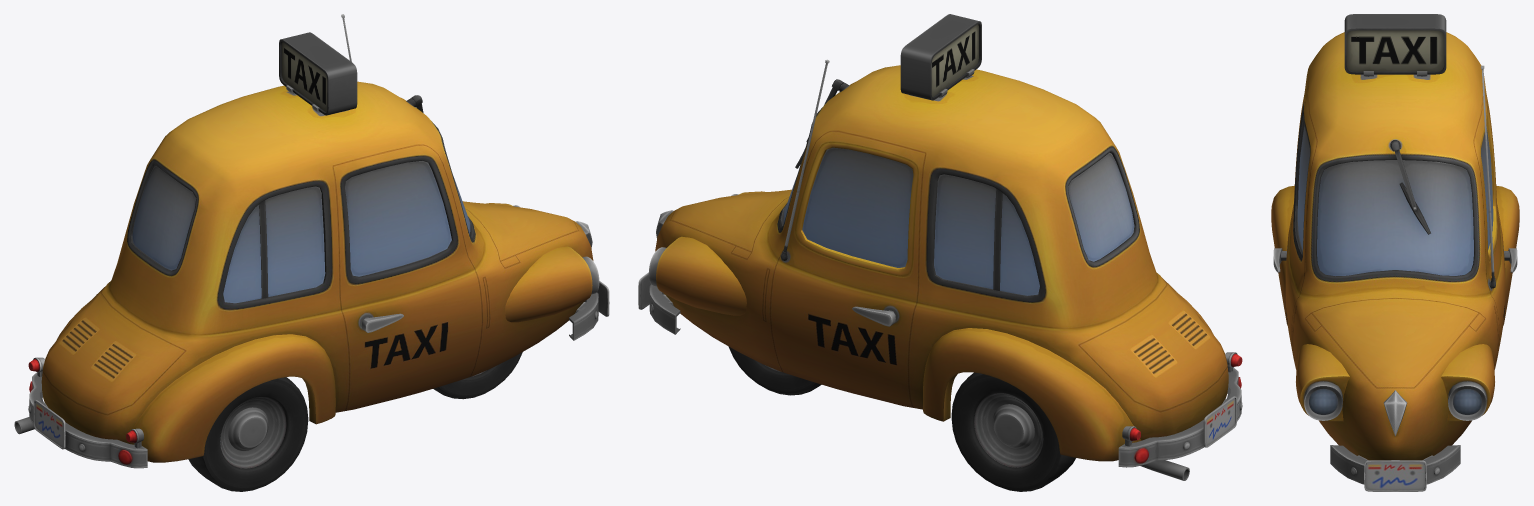
File: taxi.glb
3 views of the same model, side by side, from view 1: azimuth 30°, elevation 25°; view 2: azimuth 150°, elevation 25°; view 3: azimuth 270°, elevation 25° (orthographic). The views are drawn at different scales.
Parts seen in each view (by area): view 1: b9; view 2: b9; view 3: b9.
Part boxes in pixels (bbox=[...]): b9: bbox=[14, 14, 609, 491]; b9: bbox=[638, 14, 1242, 491]; b9: bbox=[1271, 14, 1519, 491].
Bounding box in the file's own units: 140 × 92.86 × 53.83.
1 material, 1 textured.
